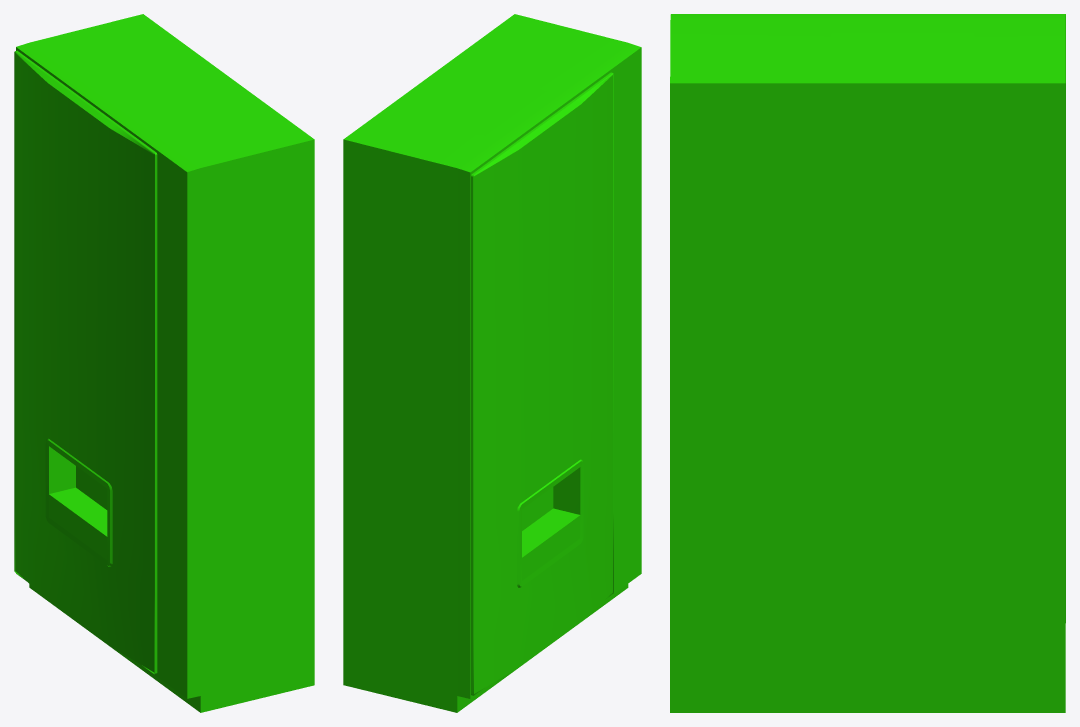
Rendered from Vending_Machine_Lod1.fbx.
The picture shows the model from 3 angles, left to right: view 1: azimuth 30°, elevation 25°; view 2: azimuth 150°, elevation 25°; view 3: azimuth 270°, elevation 25°; orthographic projection. The views are drawn at different scales.
Parts seen in each view (by area): view 1: Vending_Machine_Lod1; view 2: Vending_Machine_Lod1; view 3: Vending_Machine_Lod1.
Part boxes in pixels (x1,y1,x2,y2): Vending_Machine_Lod1: (14, 14, 314, 712); Vending_Machine_Lod1: (343, 14, 641, 712); Vending_Machine_Lod1: (670, 14, 1065, 712).
Bounding box in the file's own units: 50.17 × 191 × 109.
